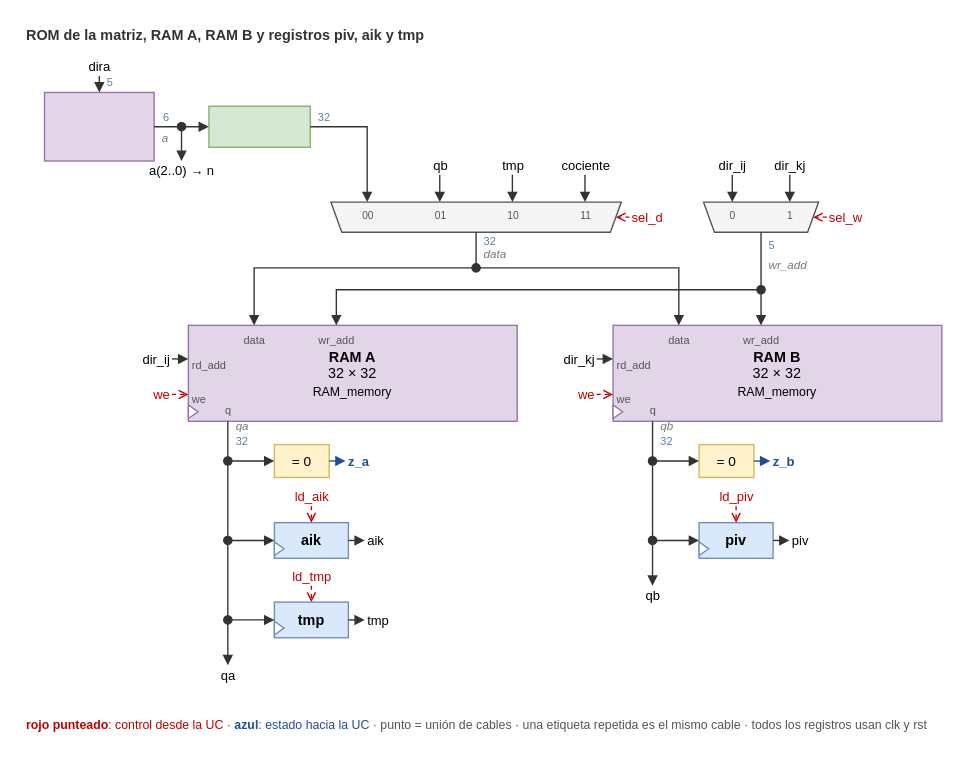
The diagram is 978 pixels wide and 770 high, and some of its shapes have lost their labels. The centre of each missing label's shape, as x and y in pixels:
"ext. signo 6 → 32" goes at point 259,126.
"ROM 32 × 6" goes at point 98,126.
